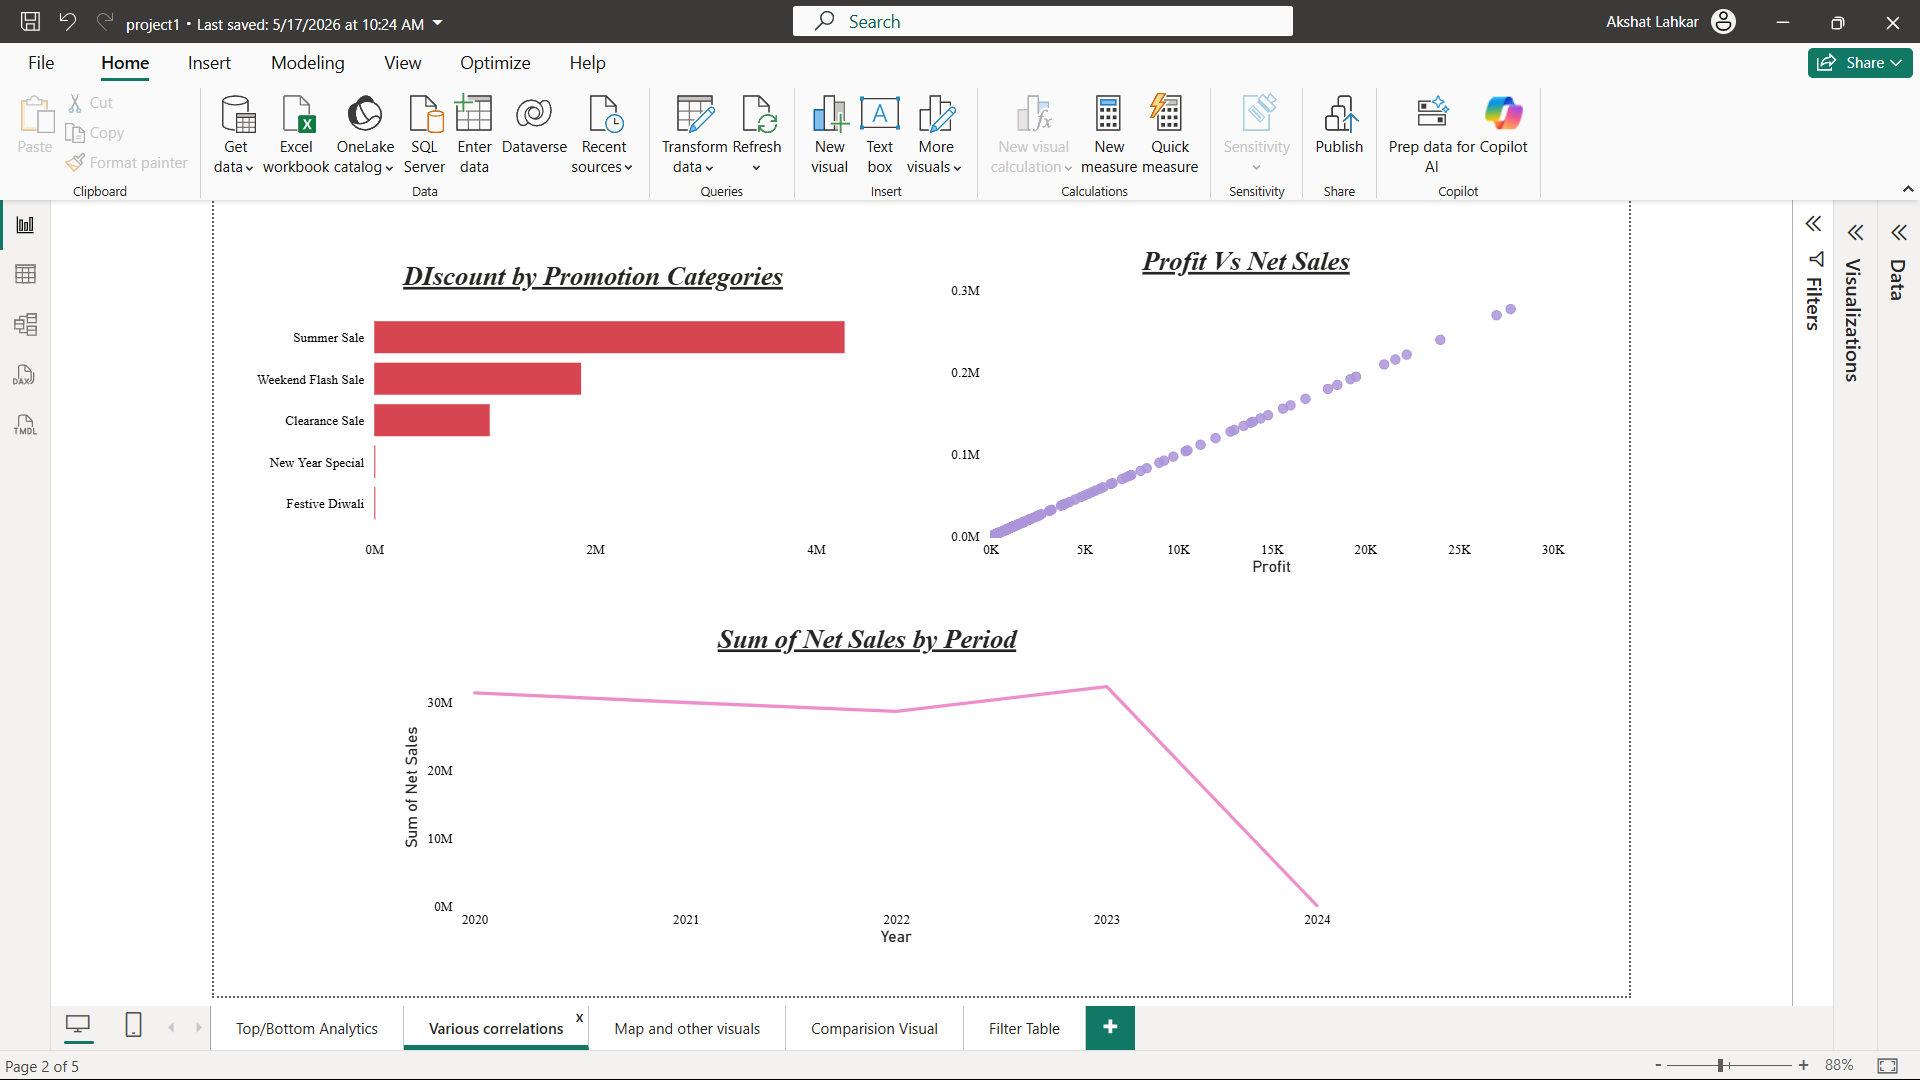

This screenshot's page, from the dashboard's own definition file:
{"tool":"powerbi","page":{"name":"Various correlations","canvas":[1280,720],"ordinal":1},"visuals":[{"type":"scatterChart","title":"Profit Vs Net Sales","fields":{"Y":["Fct table.Net Sales"],"X":["Fct table.Profit"]},"box":[639.5,41.9,587.2,303.5],"z":0},{"type":"barChart","title":"DIscount by Promotion Categories","fields":{"Y":["Sum(Fct table.Discounted Value)"],"Category":["Dim Promotion.Promotion Name"]},"box":[26.7,55.8,631.4,275.6],"z":1000},{"type":"lineChart","title":"Sum of Net Sales by Period","fields":{"Y":["Sum(Fct table.Net Sales)"],"Category":["Fct table.Date (dd/mm/yyyy).Variation.Date Hierarchy.Year","Fct table.Date (dd/mm/yyyy).Variation.Date Hierarchy.Quarter","Fct table.Date (dd/mm/yyyy).Variation.Date Hierarchy.Month","Fct table.Date (dd/mm/yyyy).Variation.Date Hierarchy.Day"]},"box":[166.3,383.7,848.8,296.5],"z":2000}]}

Visuals, with their boxes on the page's 1280x720 design canvas (x1, y1, x2, y2). These are canvas units, not pixel positions in the 1920x1080 screenshot, which may show the page scaled, cropped or inside an application window:
"Profit Vs Net Sales" scatterChart: {"left": 640, "top": 42, "right": 1227, "bottom": 345}
"DIscount by Promotion Categories" barChart: {"left": 27, "top": 56, "right": 658, "bottom": 331}
"Sum of Net Sales by Period" lineChart: {"left": 166, "top": 384, "right": 1015, "bottom": 680}
